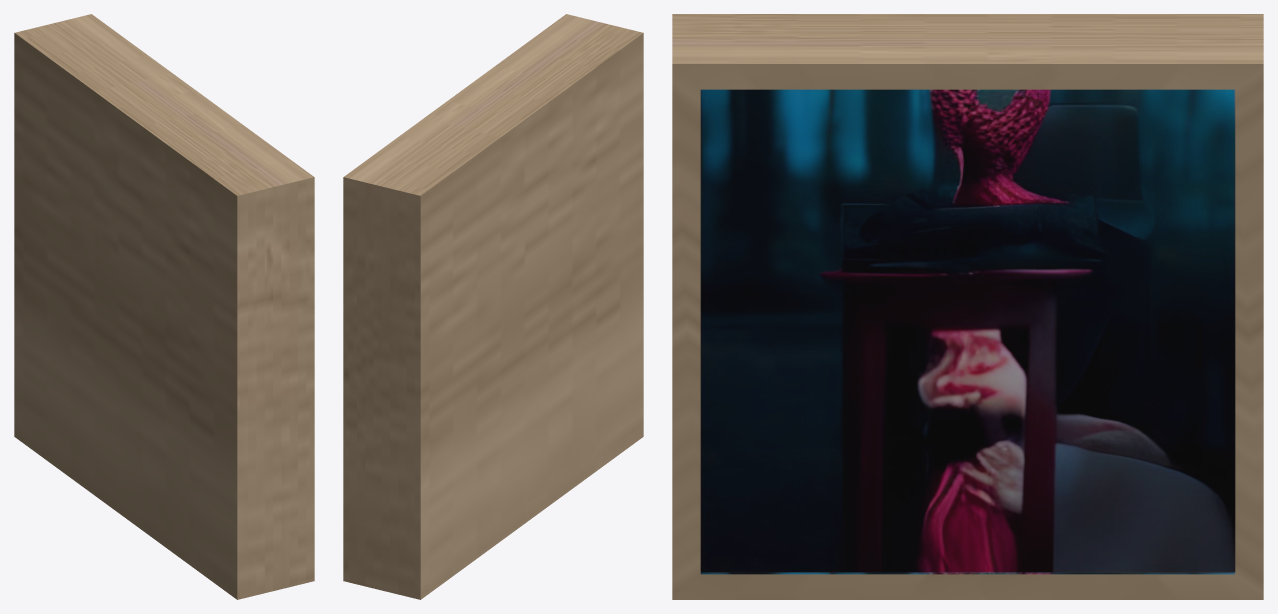
File: picture2.fbx
The picture shows the model from 3 angles, left to right: view 1: azimuth 30°, elevation 25°; view 2: azimuth 150°, elevation 25°; view 3: azimuth 270°, elevation 25°; orthographic projection. The views are drawn at different scales.
Visible parts, largest first — view 1: Cube; view 2: Cube; view 3: Cube.
Boxes of the visible parts, x1,y1,x2,y2 form: Cube: [14, 14, 314, 599]; Cube: [343, 14, 643, 599]; Cube: [672, 14, 1263, 599].
Bounding box in the file's own units: 10 × 50 × 50.
2 materials, 2 textured.
